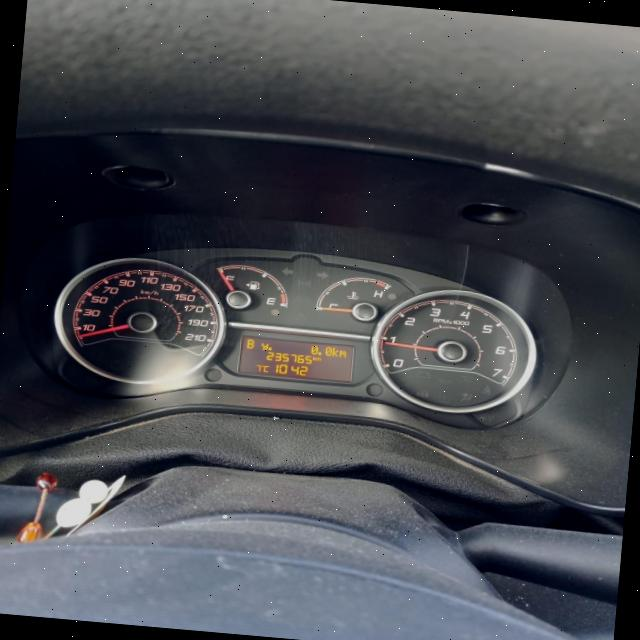odometer: (235, 334, 356, 384)
